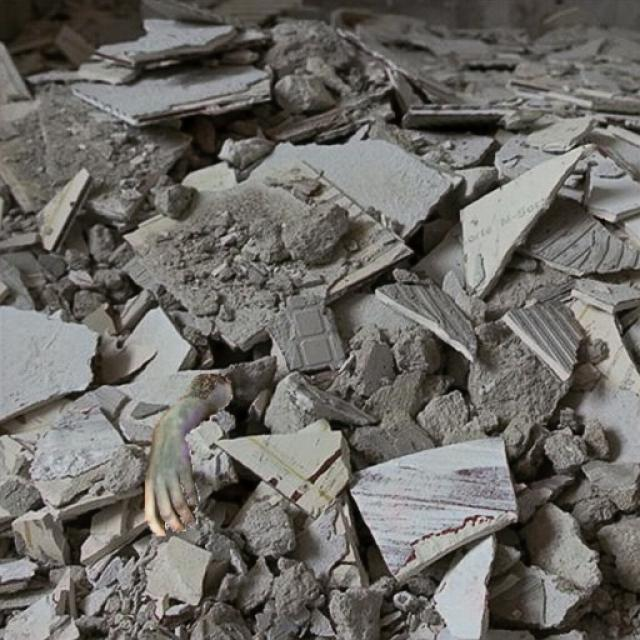Person in Rubble: (144, 374, 232, 535)
